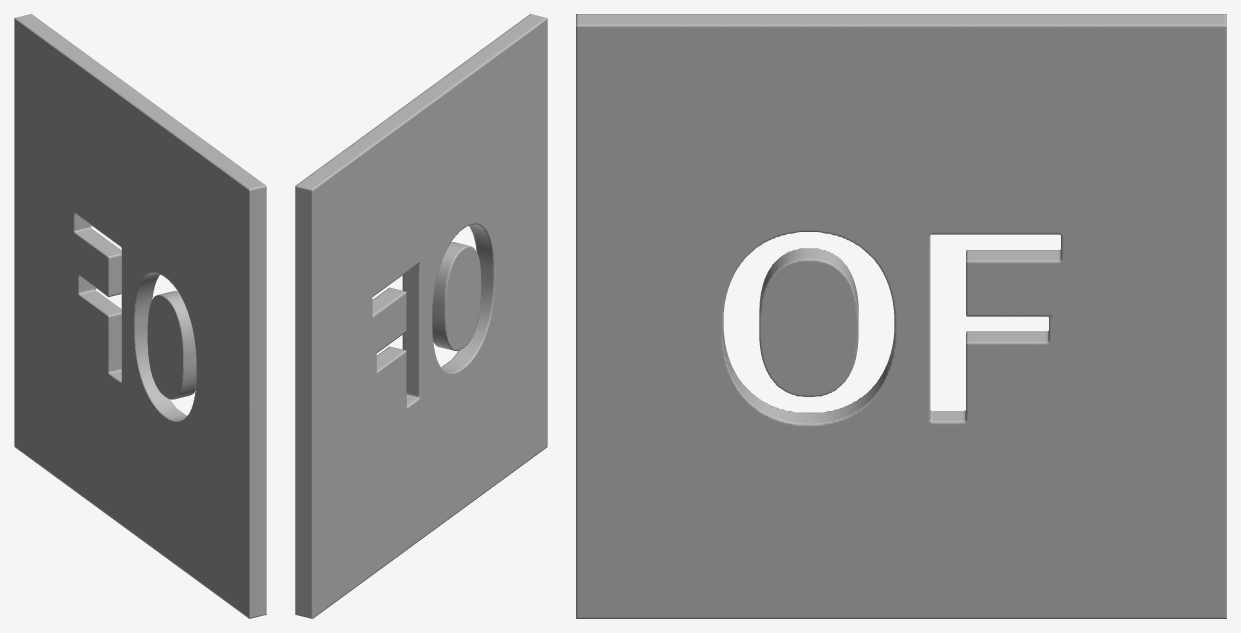
3 renders of one model, left to right at view 1: azimuth 30°, elevation 25°; view 2: azimuth 150°, elevation 25°; view 3: azimuth 270°, elevation 25°, orthographic. The views are drawn at different scales.
Parts seen in each view (by area): view 1: Area (2); view 2: Area (2); view 3: Area (2).
Boxes of the visible parts, bbox=[...] form: Area (2): bbox=[14, 14, 266, 618]; Area (2): bbox=[295, 14, 547, 618]; Area (2): bbox=[576, 14, 1226, 618].
Size of the model in its own units: 4.32 by 102 by 101.
Materials: 1 (1 with a texture image).
